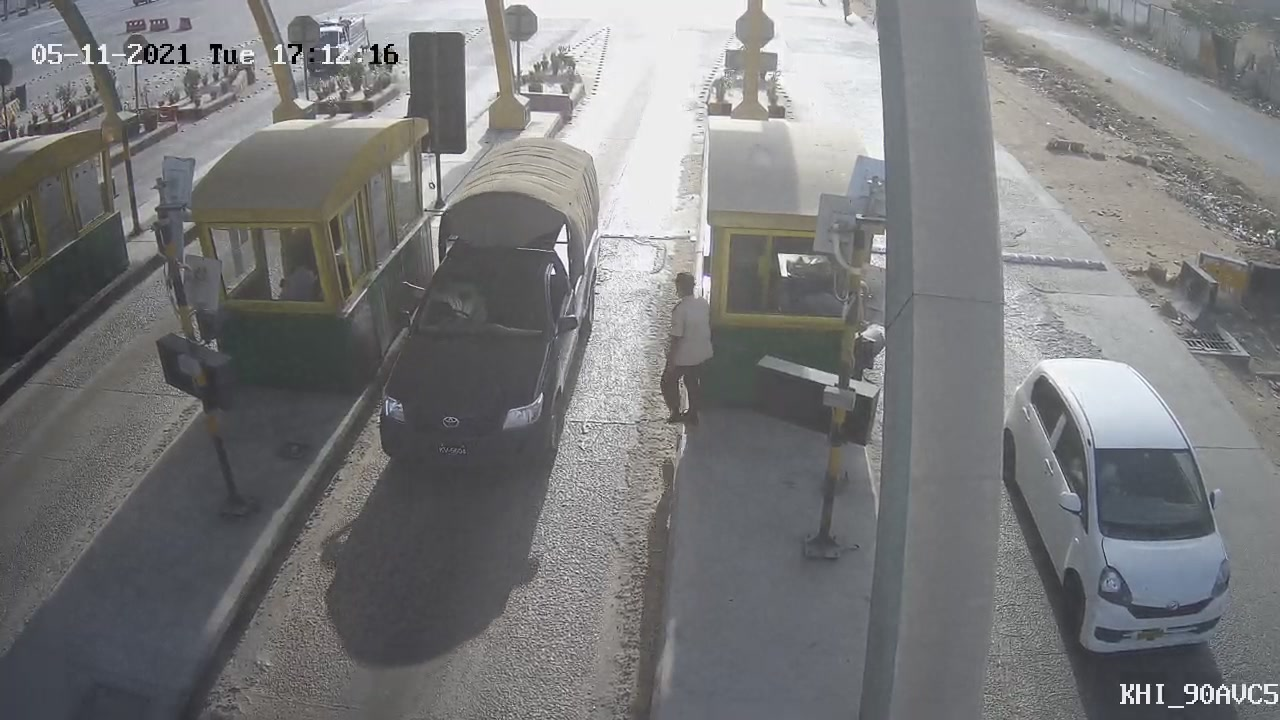F1: (355, 118, 621, 495)
